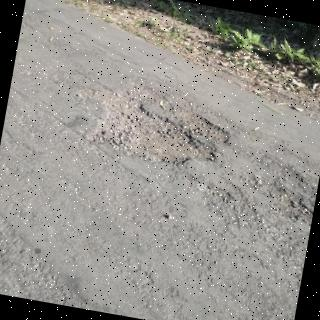pothole: (88, 99, 230, 163)
